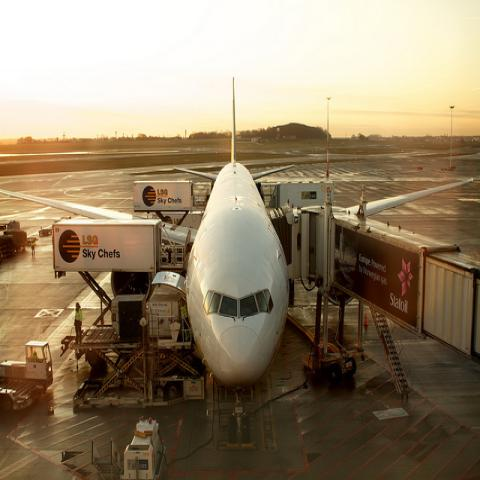truck: (0, 340, 54, 414), (125, 415, 170, 479)
